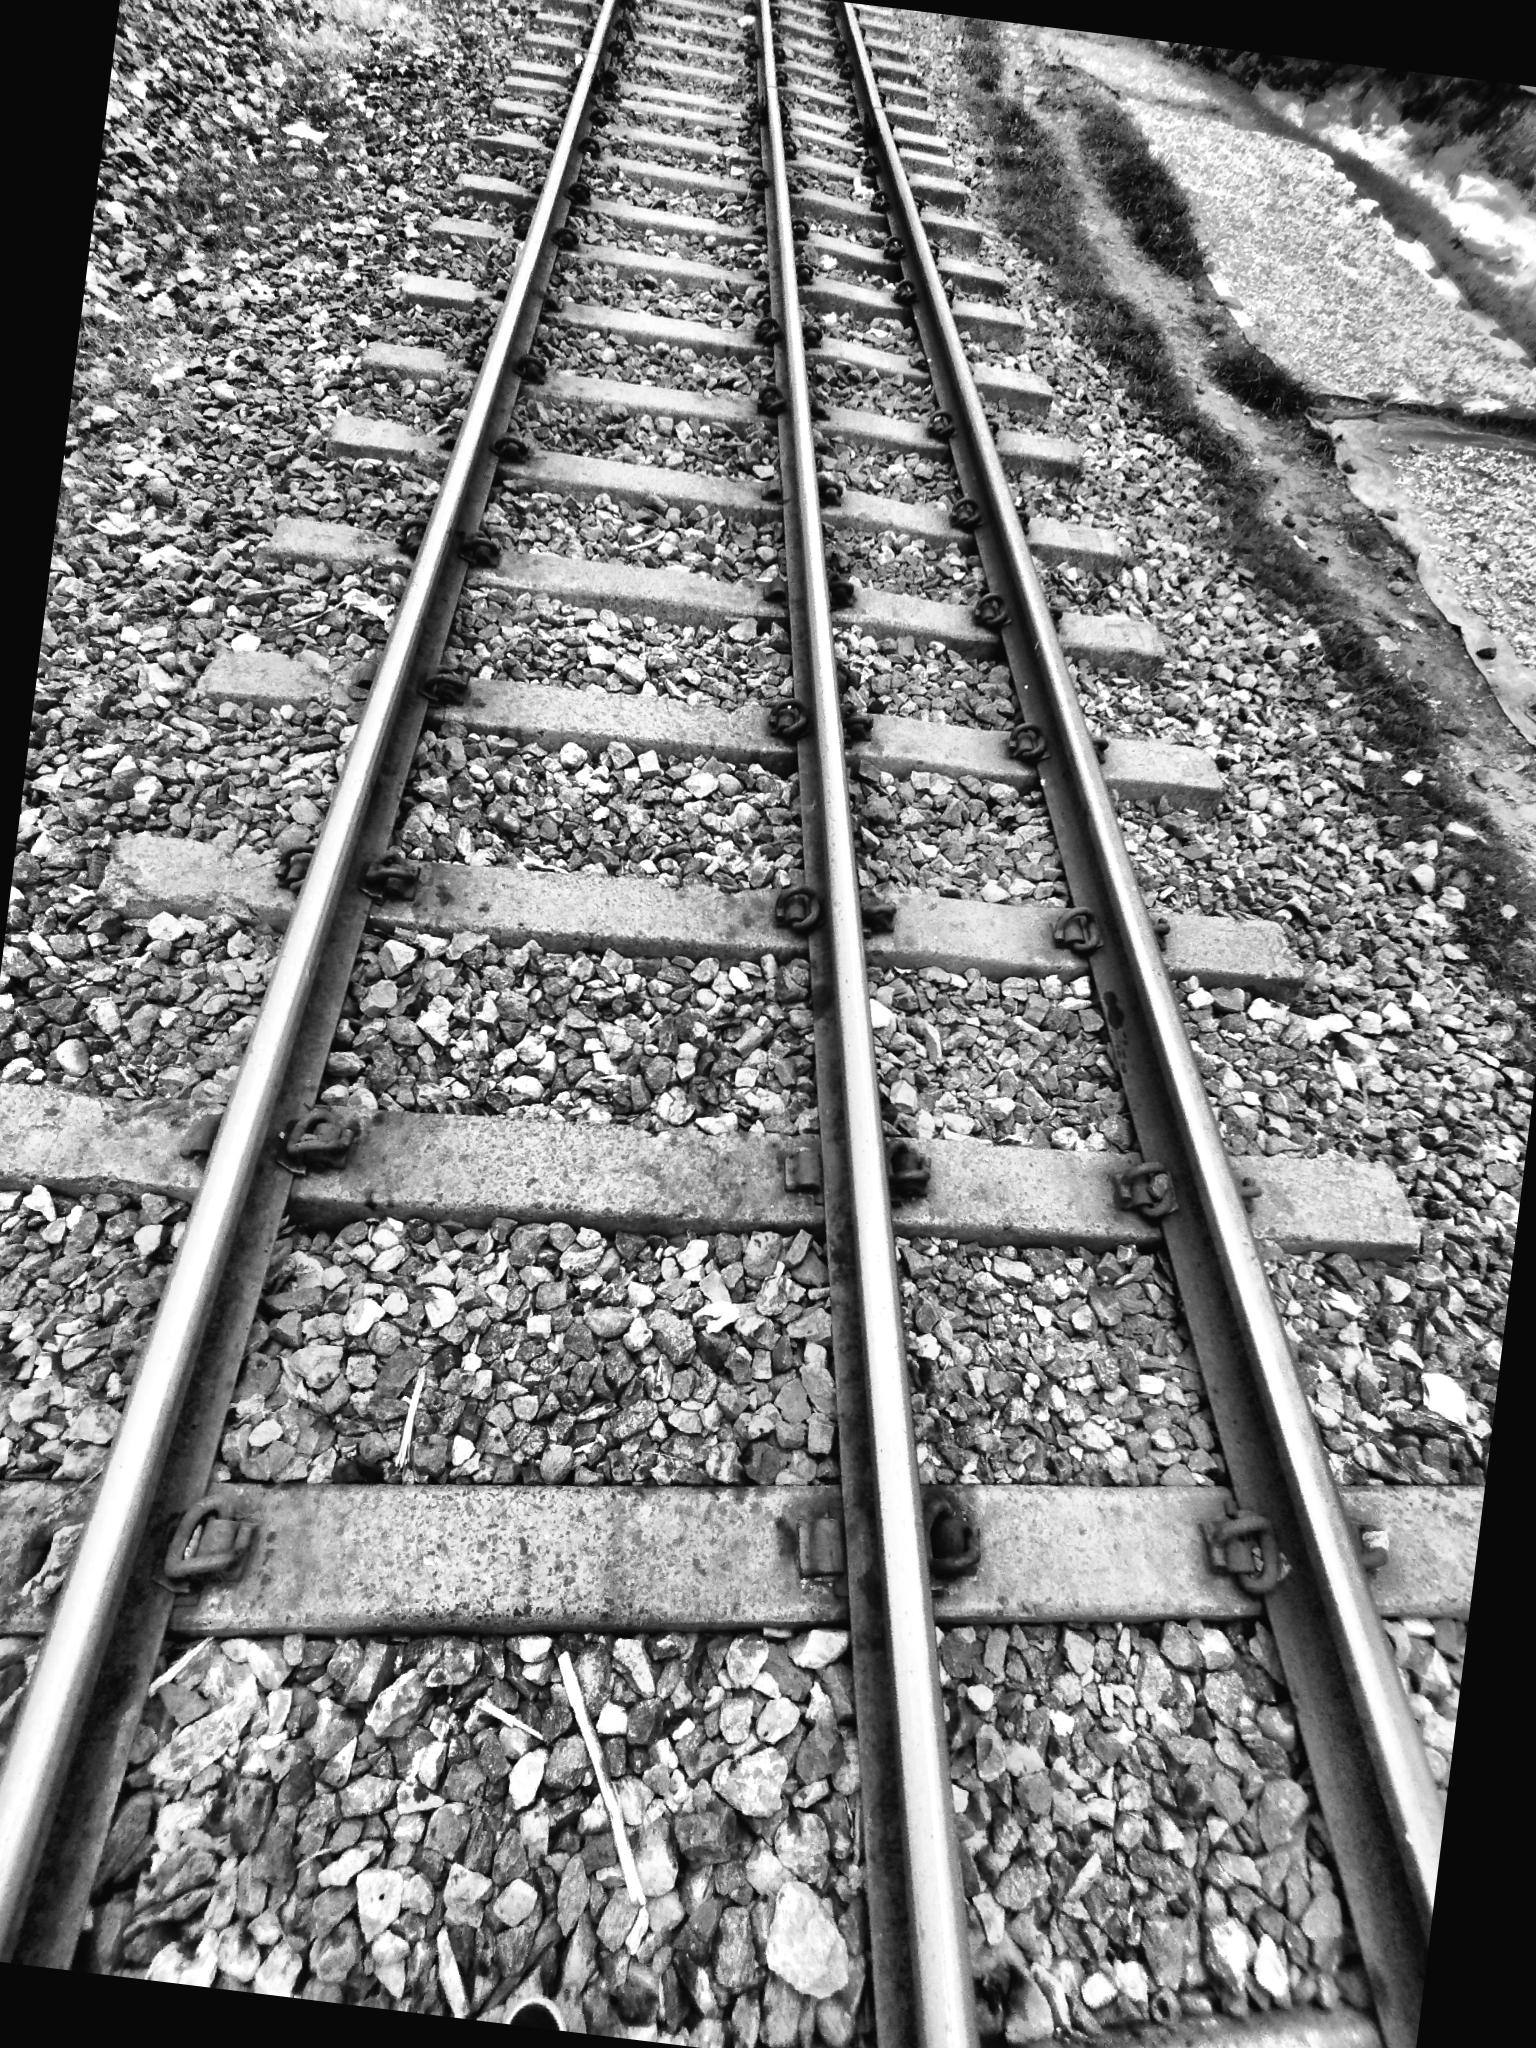Trash: (508, 1634, 691, 1925)
